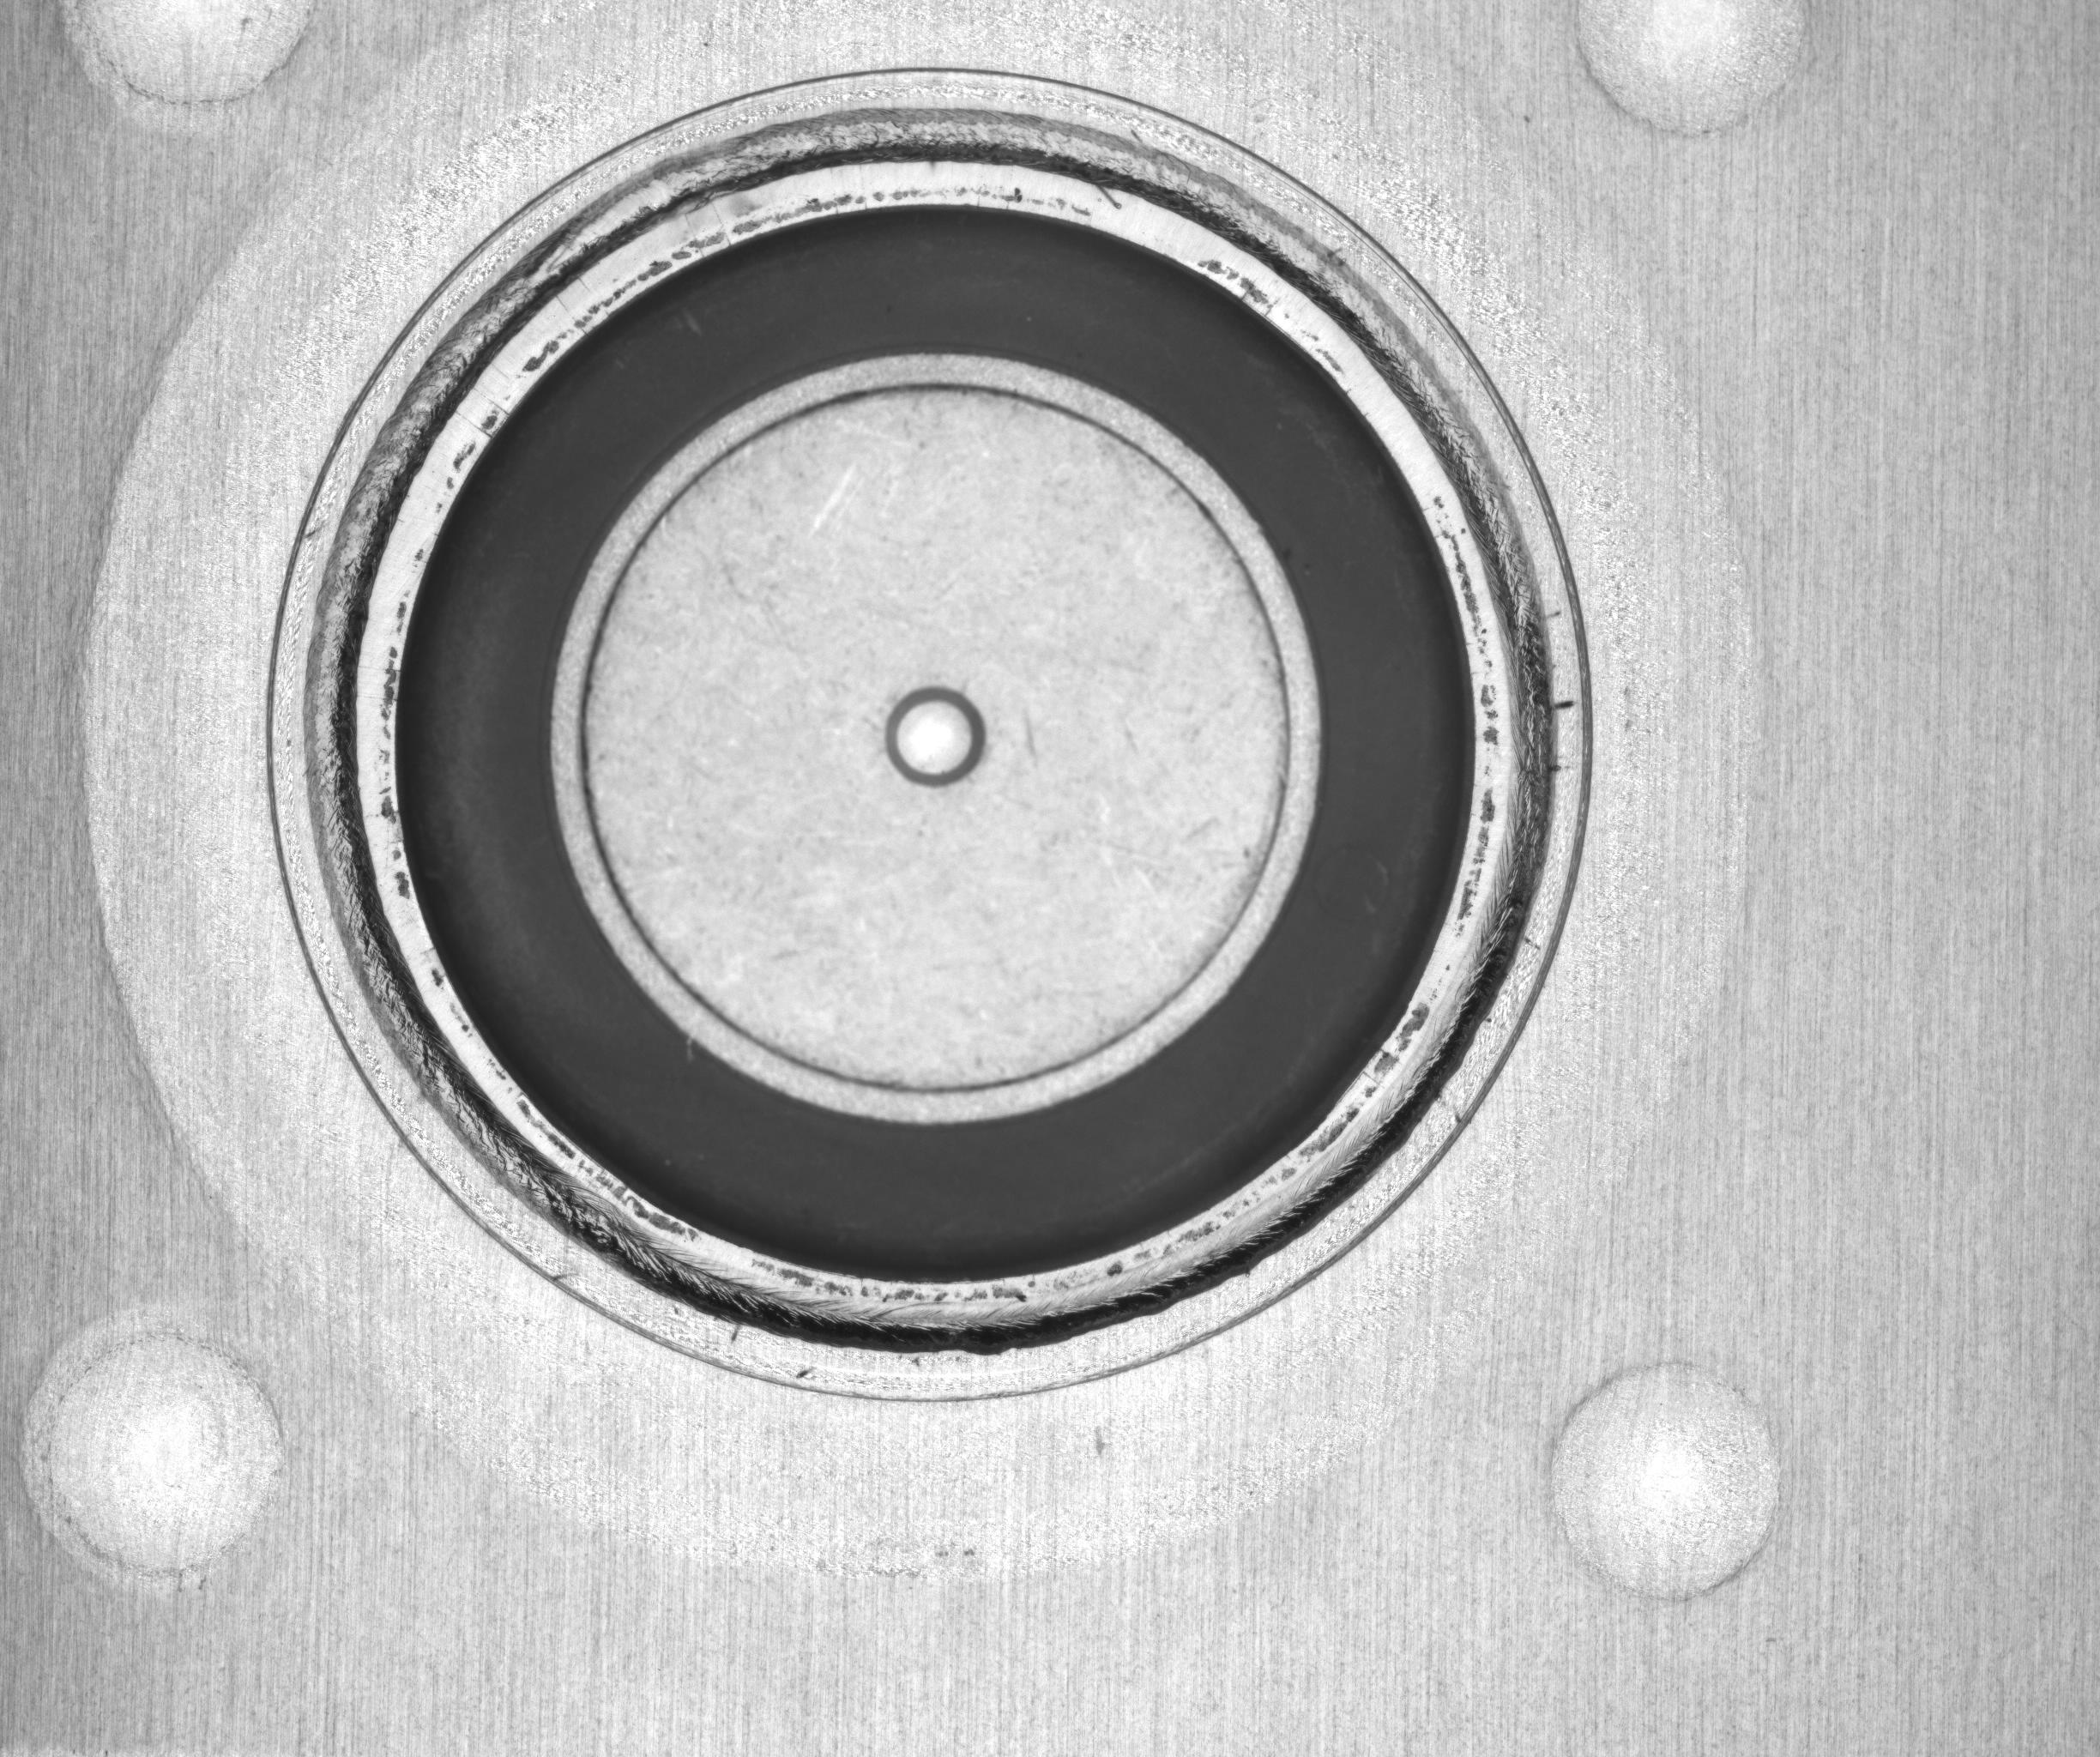weldtoohigh: (263, 52, 1601, 1413)
